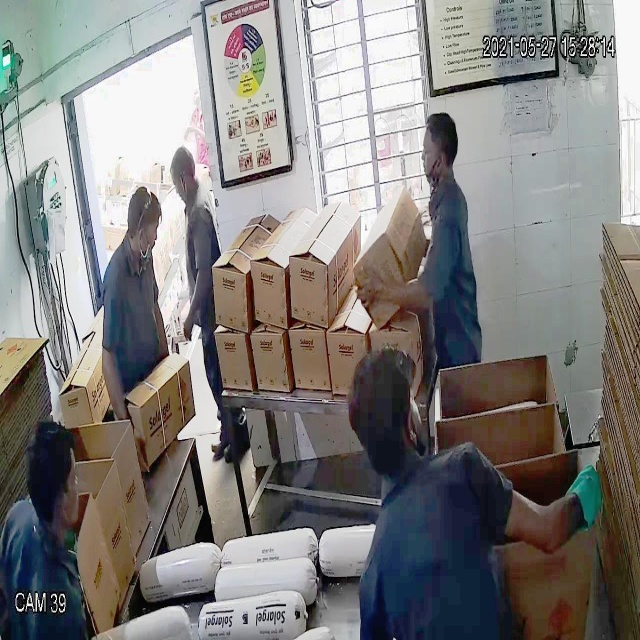Sin_gafas: (418, 142, 451, 164)
